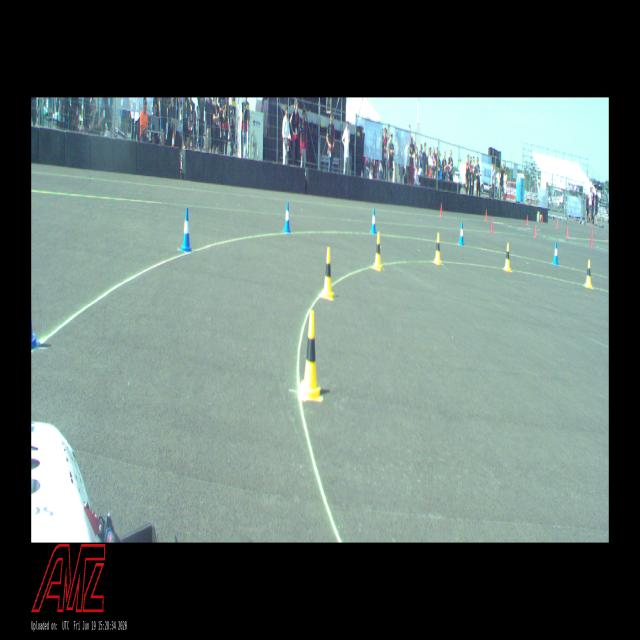blue_cone: (179, 208, 193, 252), (32, 313, 40, 349), (283, 202, 291, 233), (553, 242, 559, 265), (371, 209, 376, 234), (459, 222, 464, 245)
orange_cone: (172, 134, 174, 146)
unknown_cone: (533, 224, 537, 238), (490, 218, 493, 234), (590, 234, 593, 249), (440, 203, 442, 217), (566, 226, 568, 238), (485, 210, 487, 222), (526, 215, 528, 225), (591, 230, 593, 240), (556, 219, 558, 228)
yellow_cone: (300, 311, 321, 401), (322, 248, 334, 300), (372, 232, 382, 270), (433, 232, 441, 265), (584, 259, 592, 288), (503, 243, 511, 271)
